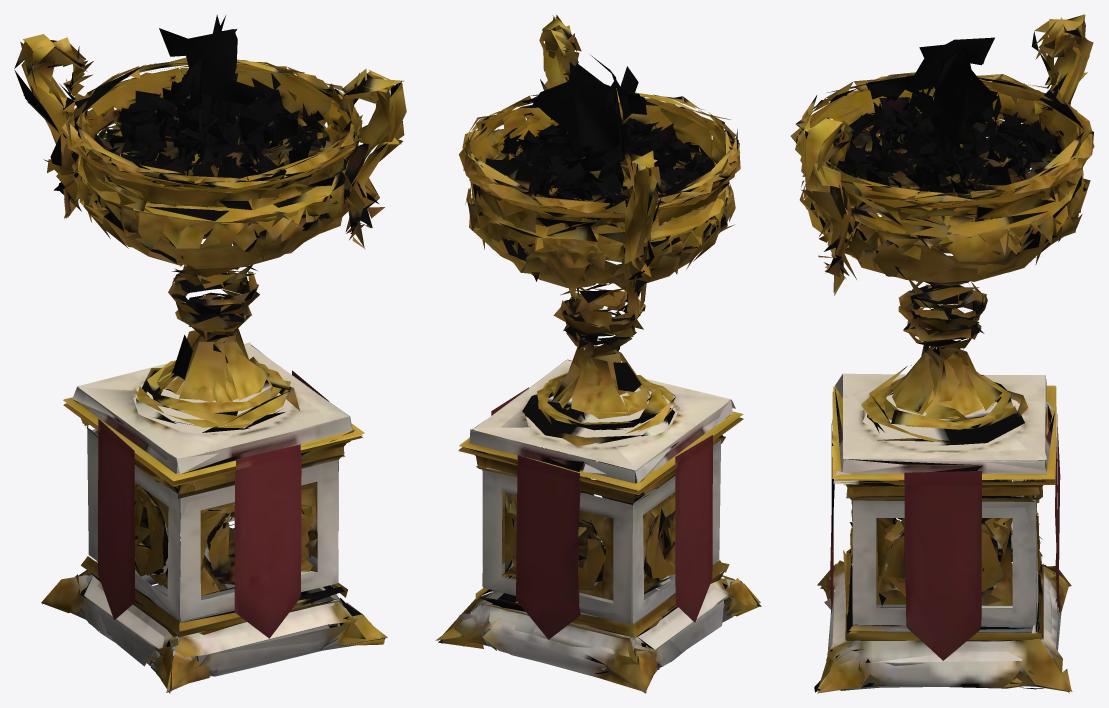
File: town_brazier.glb
3 renders of one model, left to right at view 1: azimuth 30°, elevation 25°; view 2: azimuth 150°, elevation 25°; view 3: azimuth 270°, elevation 25°, orthographic. The views are drawn at different scales.
Parts seen in each view (by area): view 1: world; view 2: world; view 3: world.
Boxes of the visible parts, x1,y1,x2,y2 form: world: (14, 14, 406, 693); world: (435, 15, 761, 693); world: (790, 14, 1094, 693).
Bounding box in the file's own units: 0.9236 × 2.02 × 0.9135.
Materials: 1 (1 with a texture image).
